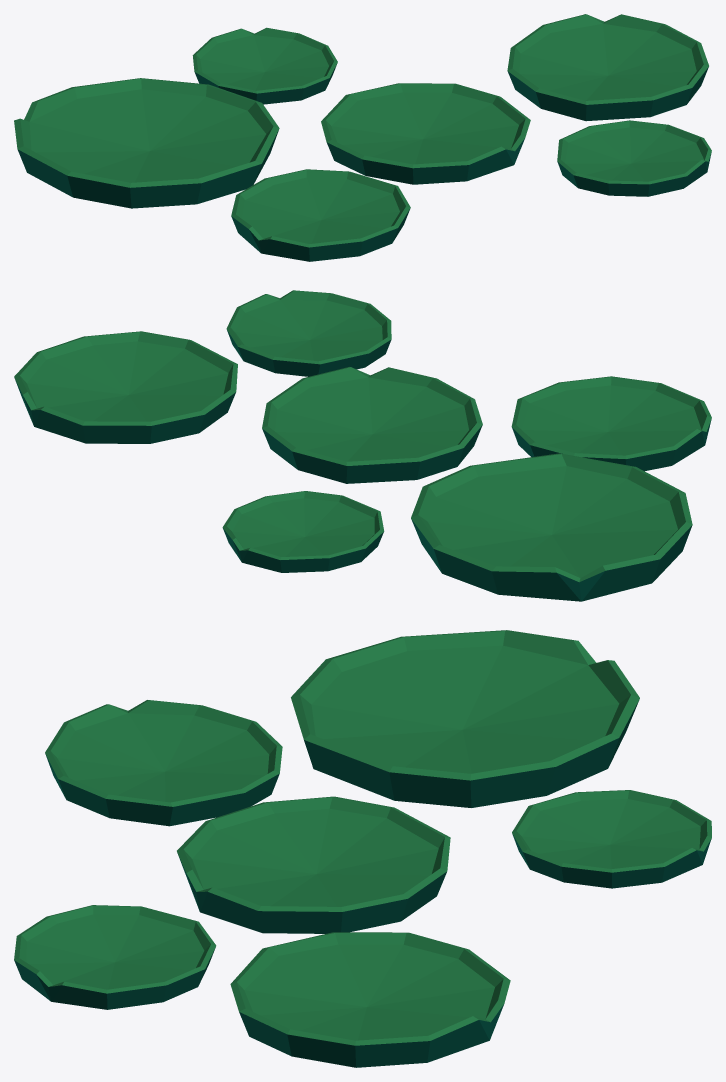
Rendered from SM_Env_Lillypad_Large_03-optimized.glb.
3 views of the same model, one above another, from view 1: azimuth 30°, elevation 25°; view 2: azimuth 150°, elevation 25°; view 3: azimuth 270°, elevation 25° (orthographic). The views are drawn at different scales.
Parts seen in each view (by area): view 1: SM_Env_Lillypad_Large_03; view 2: SM_Env_Lillypad_Large_03; view 3: SM_Env_Lillypad_Large_03.
Boxes of the visible parts, bbox=[...] form: SM_Env_Lillypad_Large_03: bbox=[14, 14, 711, 261]; SM_Env_Lillypad_Large_03: bbox=[14, 290, 711, 601]; SM_Env_Lillypad_Large_03: bbox=[14, 630, 711, 1067].
Bounding box in the file's own units: 2.87 × 0.1361 × 2.08.
1 material, 1 textured.
